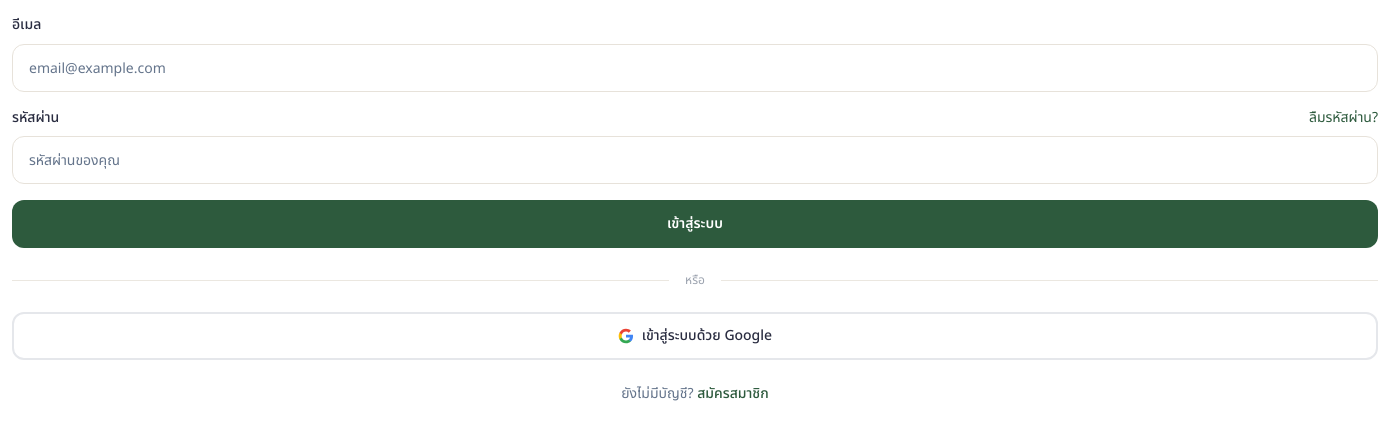
Test: LoginForm › Form Validation › shows validation error for empty password
Type "test@example.com" into the field labelled "อีเมล".
click(695, 68); type("test@example.com")  # box [12,44,1378,92]
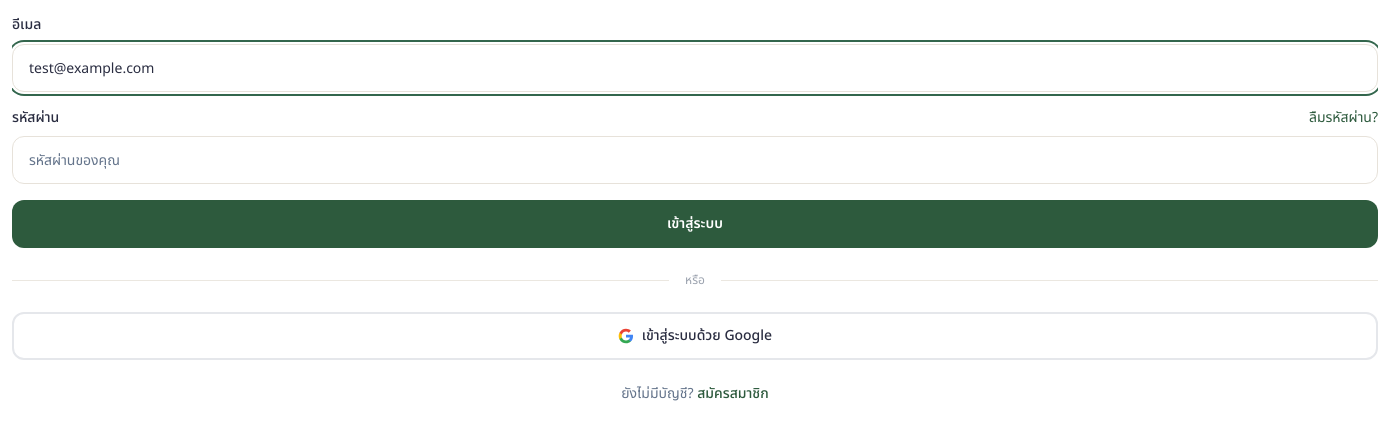
Click the button "เข้าสู่ระบบ".
click(695, 224)  # box [12,200,1378,248]
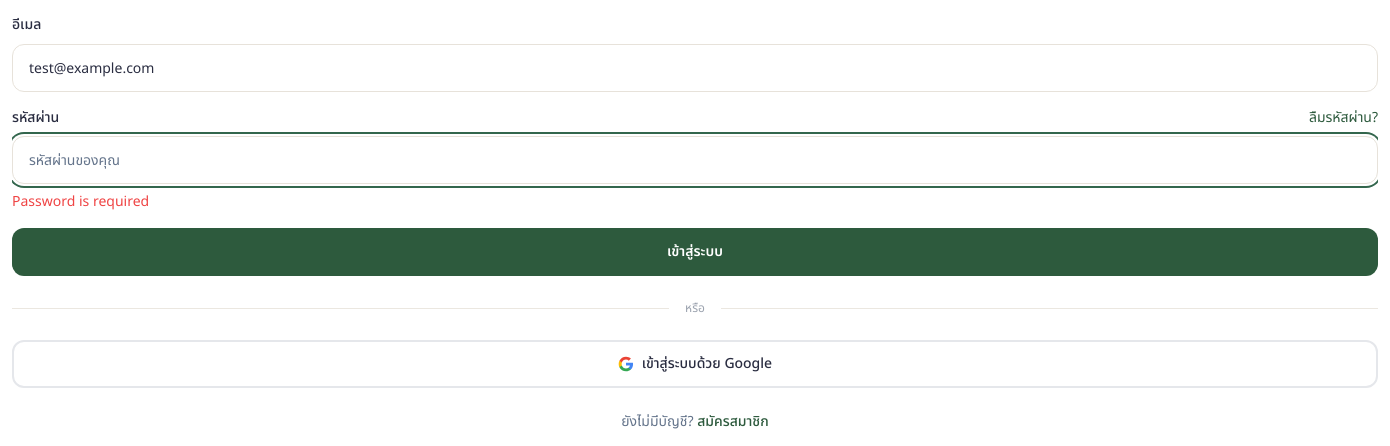
Expected: the text "Password is required" is shown, [12,191,149,212]
